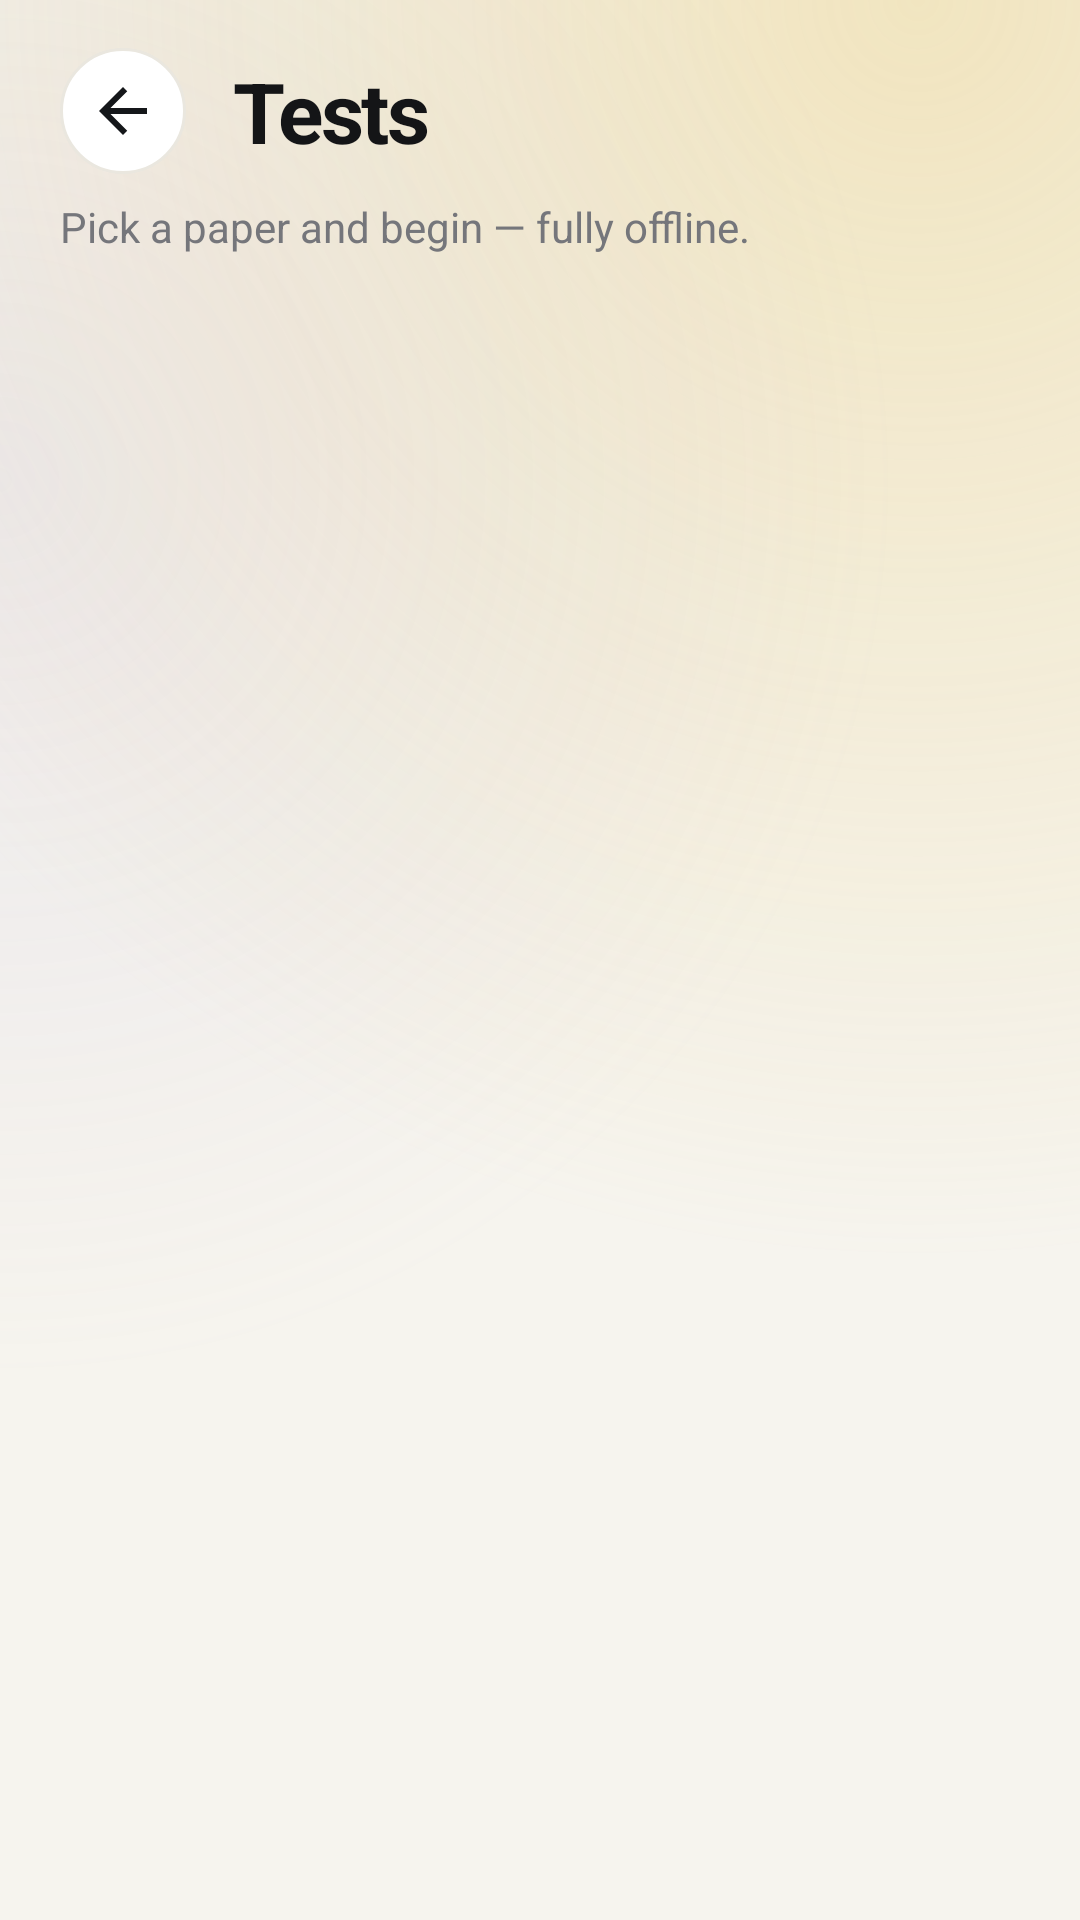

Locate icon controls on the screen. Image size 1080px x 1920px, boxes as {"left": x1, "top": y1, "right": x2, "bottom": y2}.
Back: {"left": 63, "top": 51, "right": 183, "bottom": 171}
